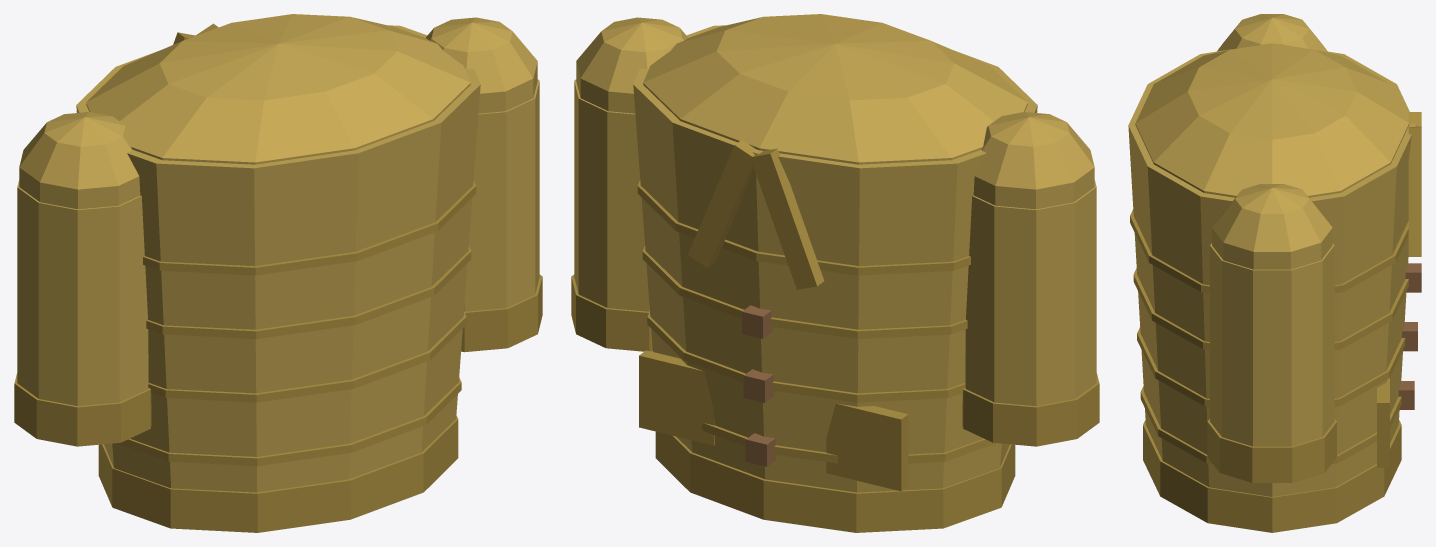
The model's file is jacket_granny.glb.
The picture shows the model from 3 angles, left to right: view 1: azimuth 30°, elevation 25°; view 2: azimuth 150°, elevation 25°; view 3: azimuth 270°, elevation 25°; orthographic projection. The views are drawn at different scales.
Parts seen in each view (by area): view 1: Torso, ArmL, ArmR; view 2: Torso, ArmL, ArmR; view 3: Torso, ArmR, ArmL.
Boxes of the visible parts, bbox=[...] form: Torso: bbox=[76, 14, 480, 532]; ArmL: bbox=[14, 112, 151, 446]; ArmR: bbox=[426, 17, 542, 352]; Torso: bbox=[633, 14, 1037, 532]; ArmL: bbox=[962, 112, 1099, 446]; ArmR: bbox=[571, 17, 687, 351]; Torso: bbox=[1128, 43, 1421, 532]; ArmR: bbox=[1207, 184, 1336, 482]; ArmL: bbox=[1217, 14, 1327, 51].
Size of the model in its own units: 0.8102 by 0.648 by 0.4523.
